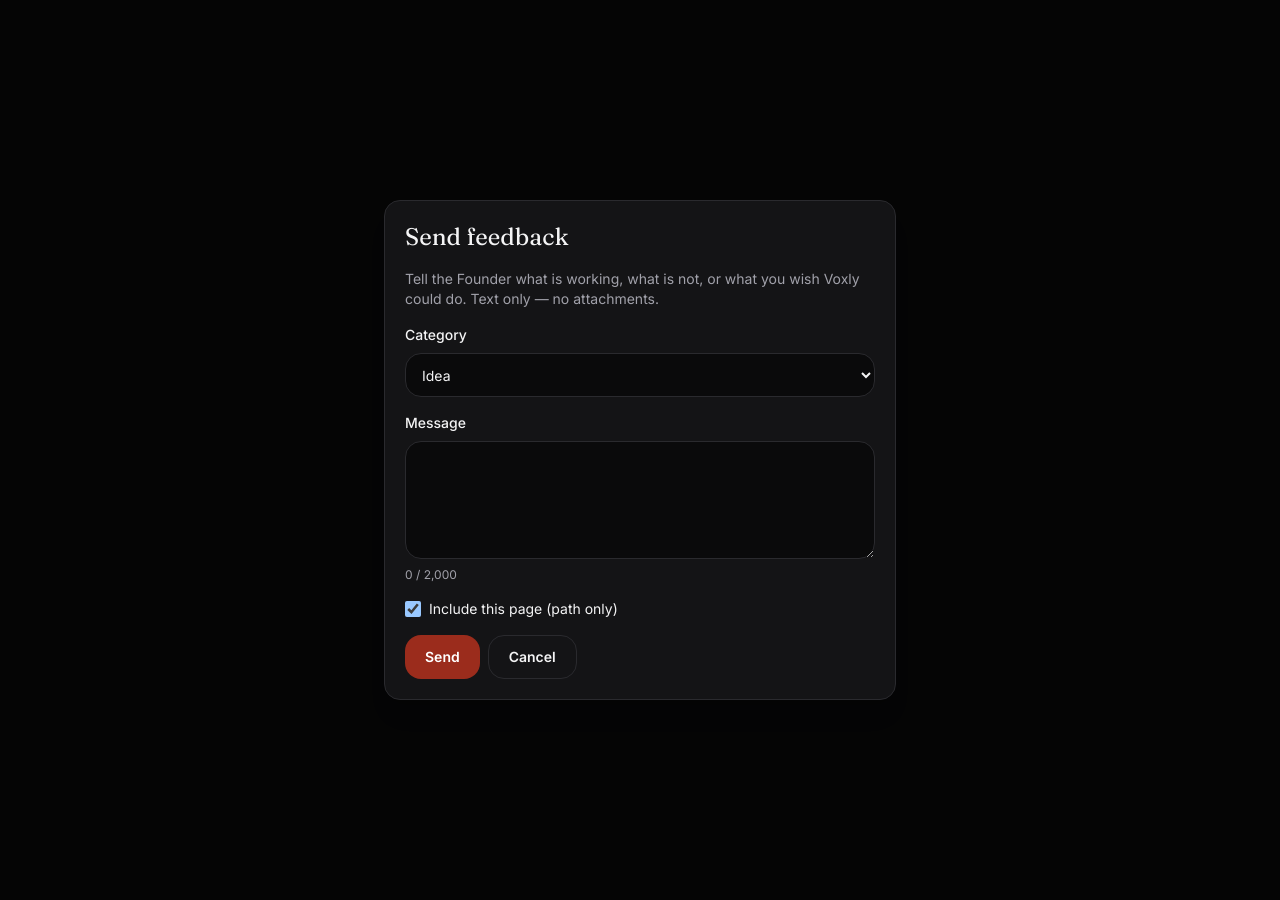
Scenario: FeedbackModal › shows rate limited message from the API
The image size is (1280, 900).
Type "This is valid feedback with enough characters." into the text box with test id "feedback-message".
click(640, 500); type("This is valid feedback with enough characters.")  # box [405,441,875,559]
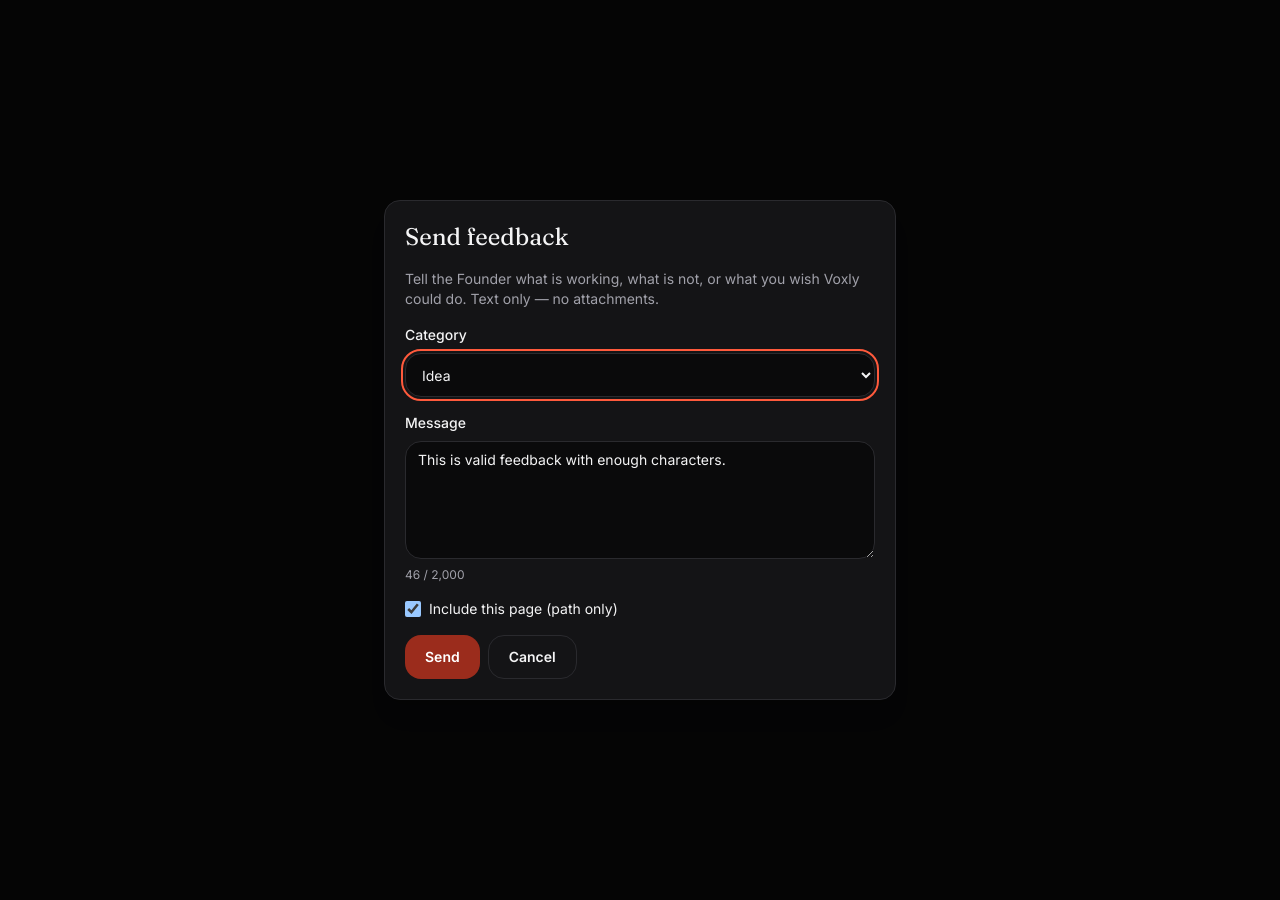
Click the button with test id "feedback-submit".
click(442, 657)  # box [405,635,480,679]
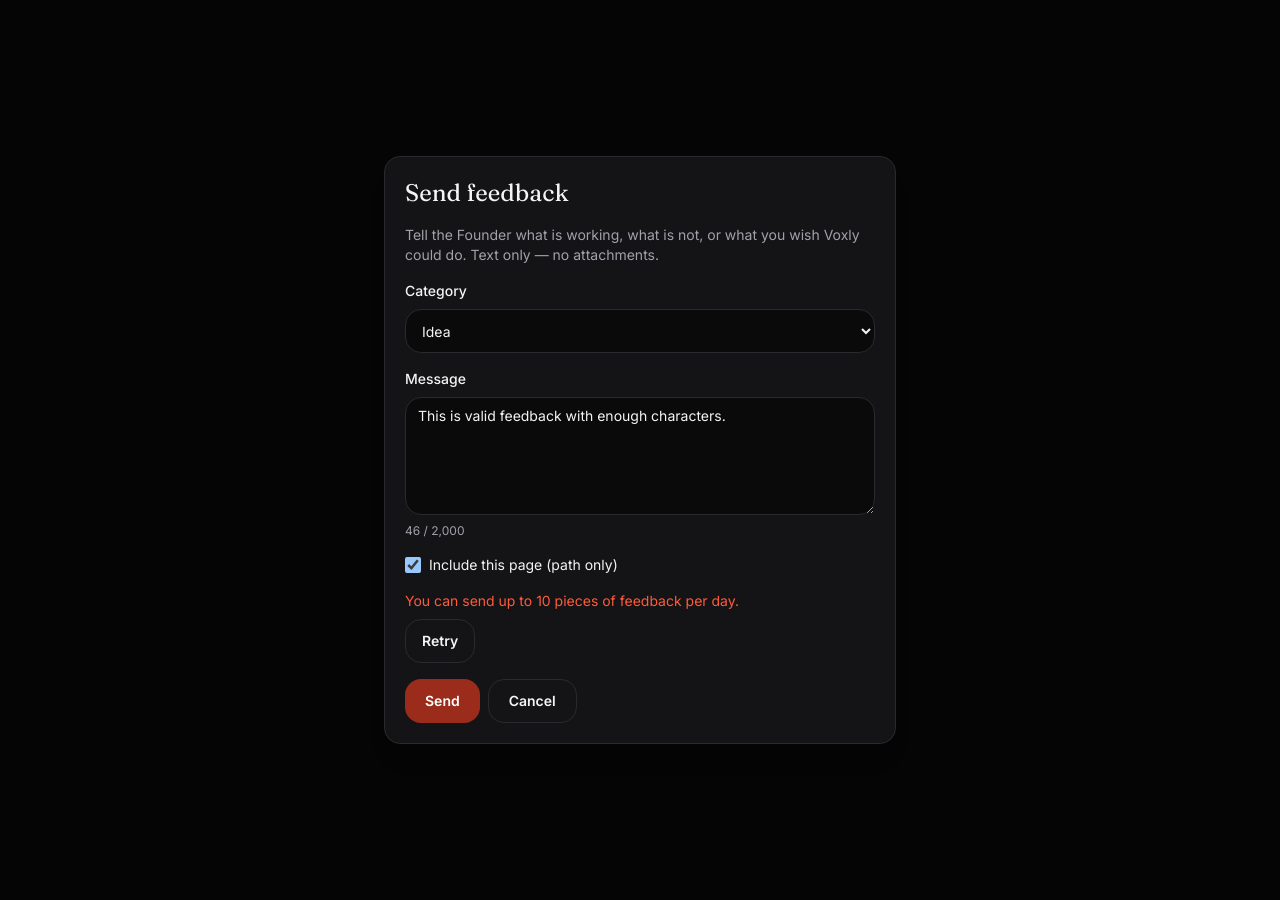
Expected: the message shows "10 pieces of feedback", [405,592,739,609]
Expected: the button with test id "feedback-retry" is shown, [405,619,475,663]
